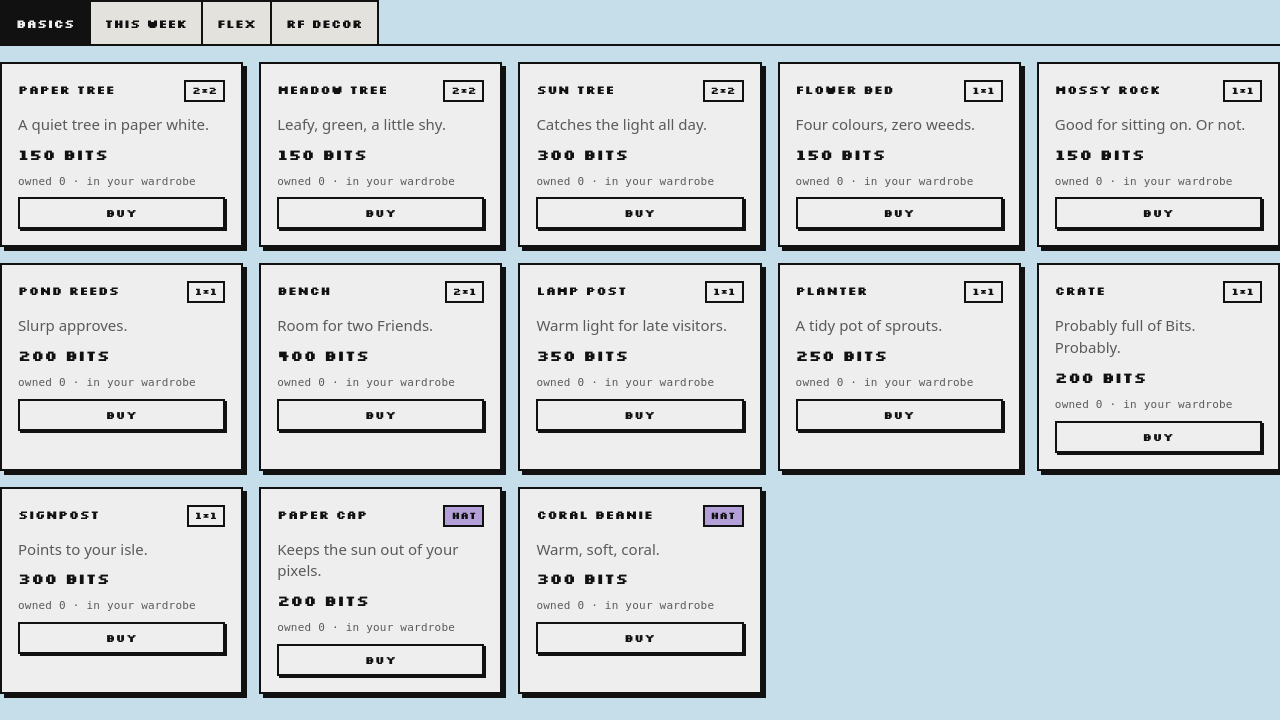
Test: Catalog › keeps a refused purchase open with the server's reason
Click the button with aria-label "buy Mossy rock for 150 bits". click: (1158, 213)
box: [1055, 197, 1262, 229]
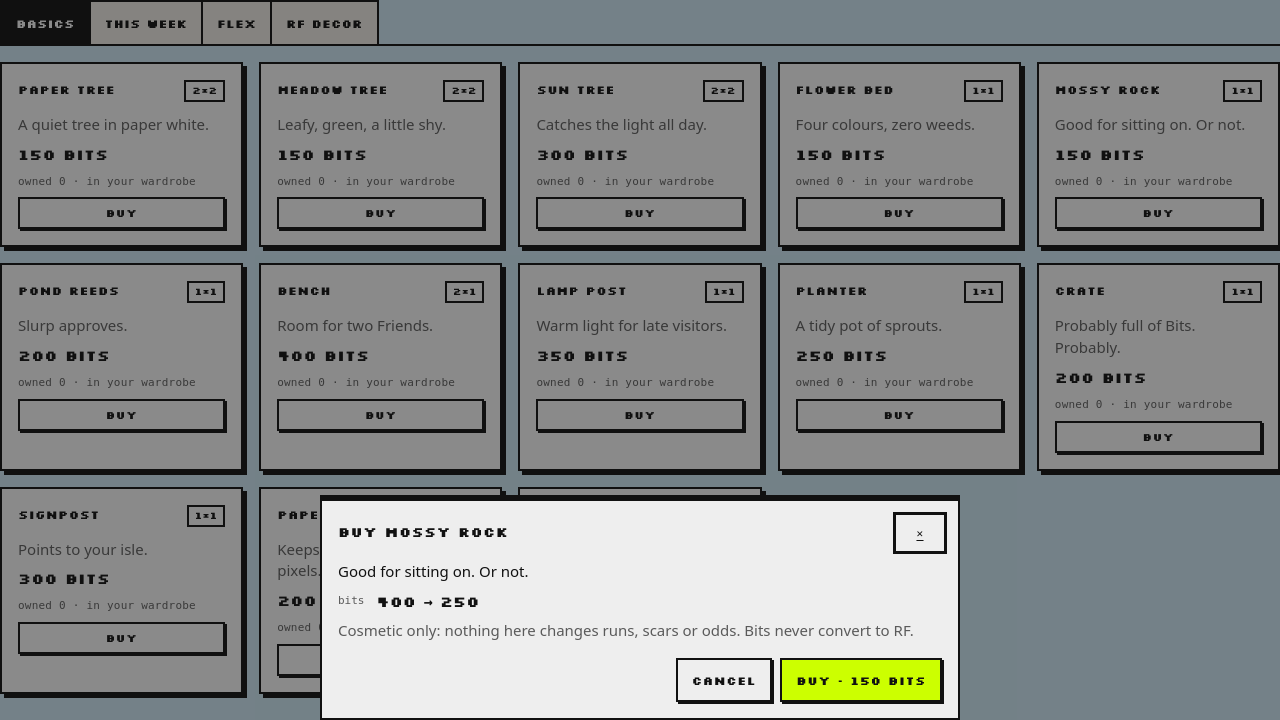
Click the button "buy · 150 bits". click: (861, 680)
box: [780, 658, 942, 702]
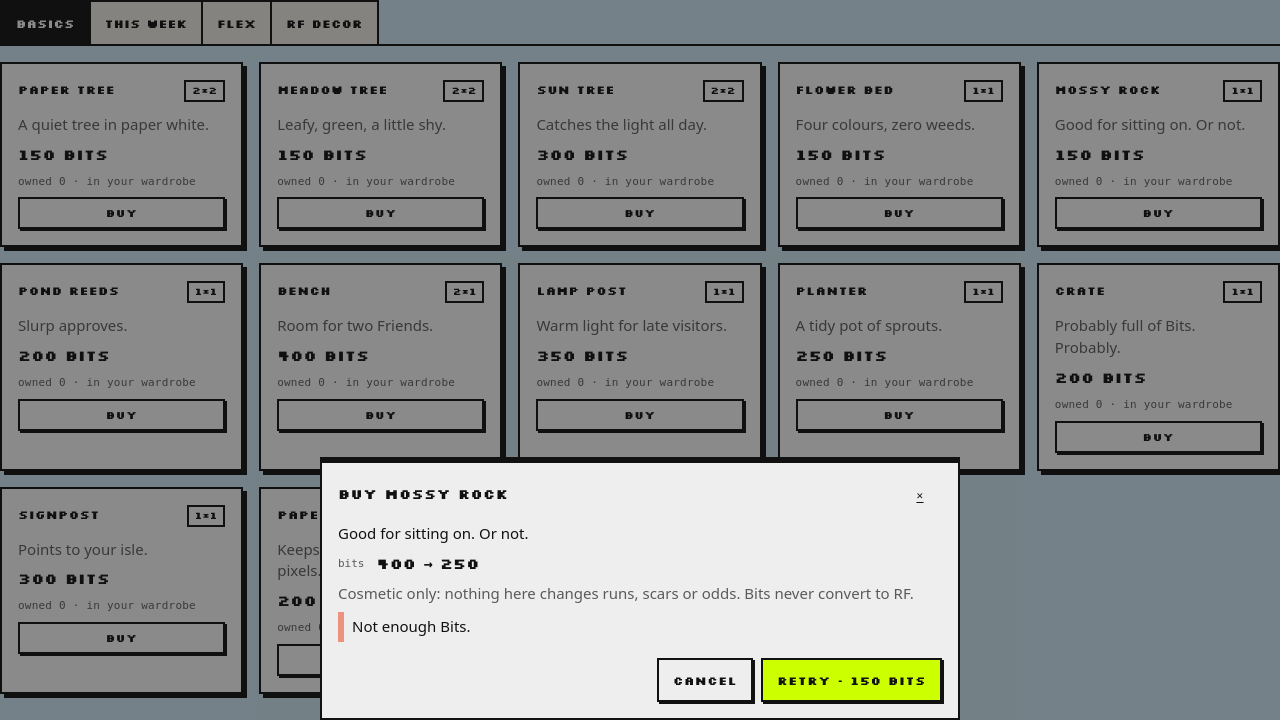
expect the message reads "Not enough Bits.": met, box [352, 616, 470, 636]
expect the button "retry · 150 bits" is shown: met, box [761, 658, 942, 702]
